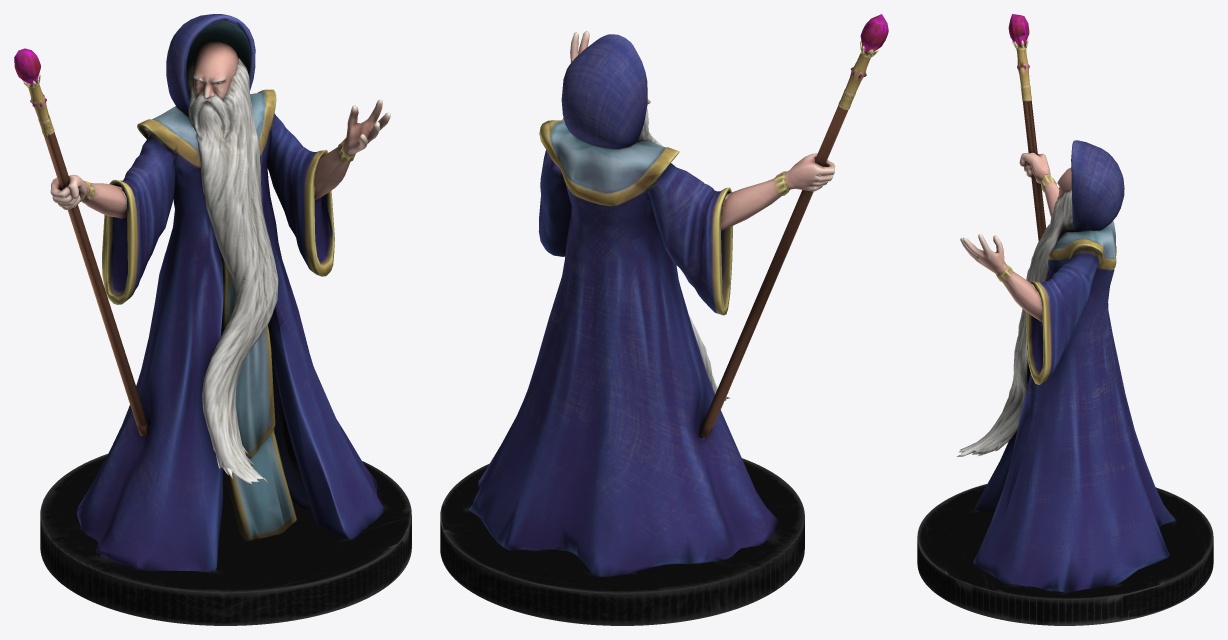
Rendered from MZ4250 - Human Wizard.glb.
3 views of the same model, side by side, from view 1: azimuth 30°, elevation 25°; view 2: azimuth 150°, elevation 25°; view 3: azimuth 270°, elevation 25° (orthographic). The views are drawn at different scales.
Parts seen in each view (by area): view 1: body_low.001, base_low.001, beard_low.001, staff_low.001; view 2: body_low.001, base_low.001, staff_low.001, beard_low.001; view 3: body_low.001, base_low.001, beard_low.001, staff_low.001.
Boxes of the visible parts, left/top/right/bottom form: body_low.001: left=50, top=14, right=390, bottom=572; base_low.001: left=40, top=454, right=411, bottom=625; beard_low.001: left=186, top=57, right=278, bottom=483; staff_low.001: left=14, top=48, right=148, bottom=436; body_low.001: left=469, top=31, right=835, bottom=576; base_low.001: left=440, top=458, right=804, bottom=625; staff_low.001: left=699, top=14, right=888, bottom=437; beard_low.001: left=637, top=108, right=730, bottom=400; body_low.001: left=960, top=140, right=1175, bottom=593; base_low.001: left=917, top=484, right=1213, bottom=625; beard_low.001: left=956, top=190, right=1073, bottom=456; staff_low.001: left=1008, top=14, right=1045, bottom=241.
Bounding box in the file's own units: 5.02 × 6.9 × 4.03.
1 material, 1 textured.
